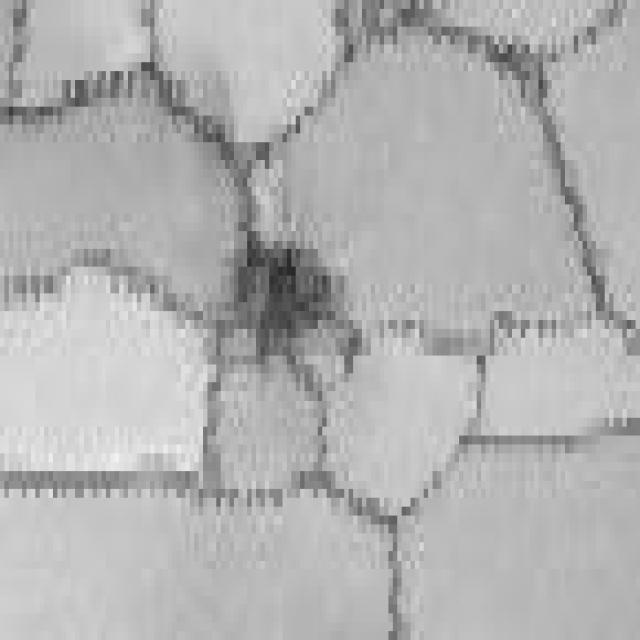good_void: (214, 201, 372, 377)
